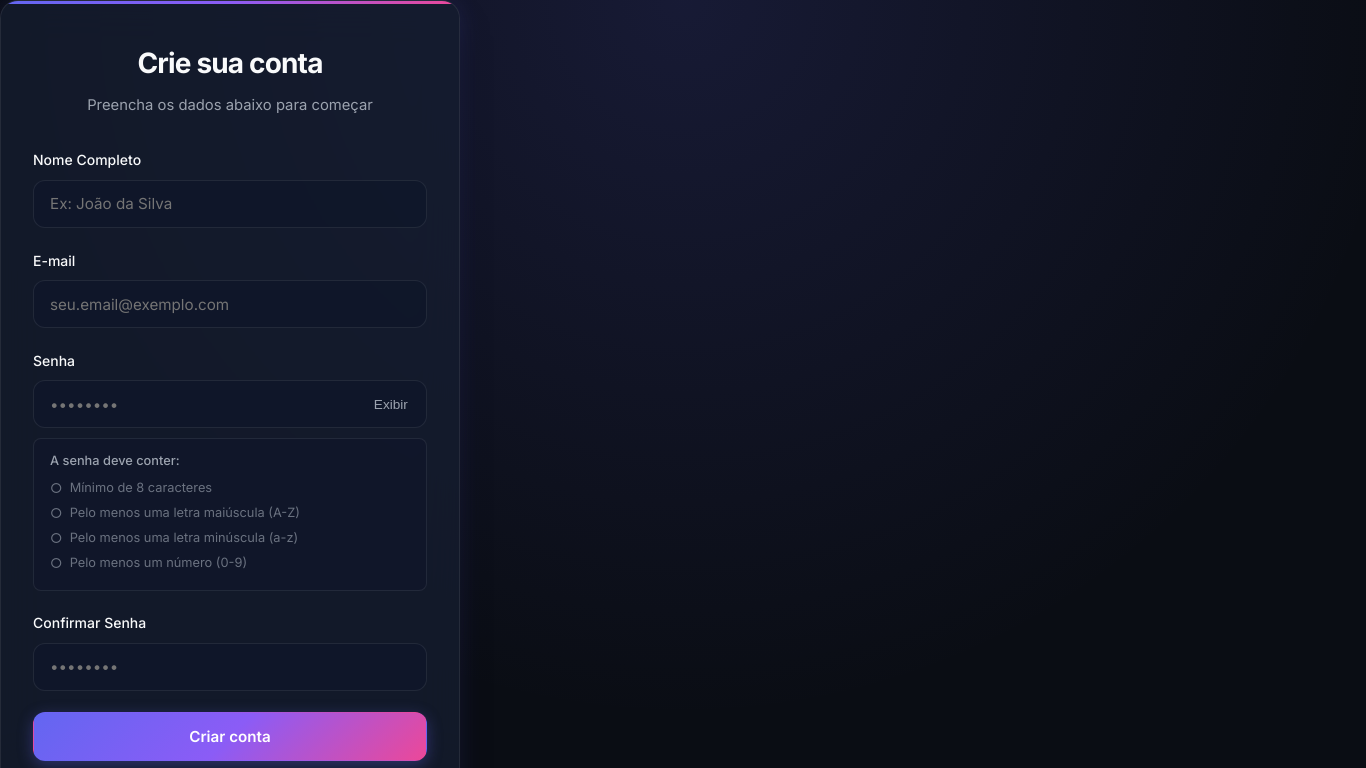
RegisterForm Unit Tests › exibe mensagem de erro na interface quando o cadastro é rejeitado
The image size is (1366, 768).
Type "Carlos Silva" into the field with test id "input-name".
click(230, 204); type("Carlos Silva")  # box x1=33 y1=180 x2=427 y2=228
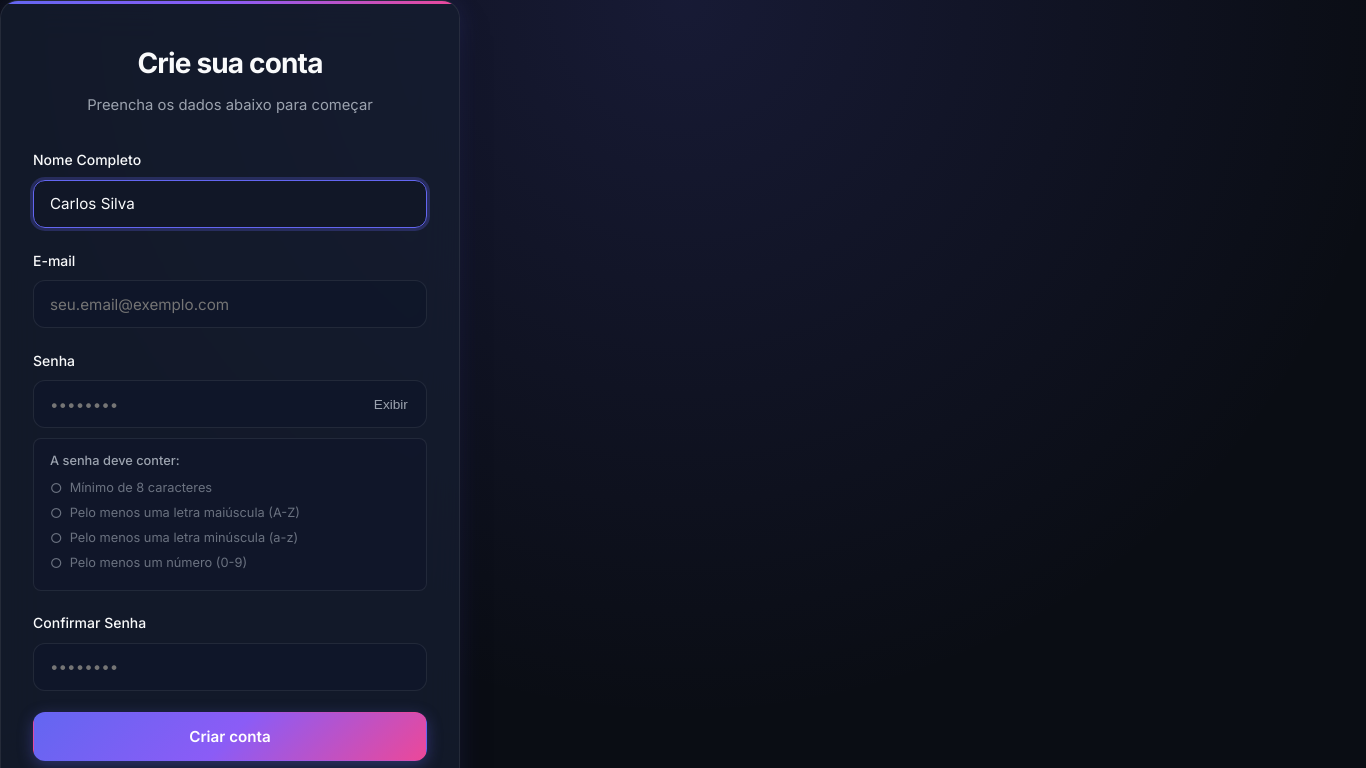
Type "existente@exemplo.com" into the field with test id "input-email".
click(230, 304); type("existente@exemplo.com")  # box x1=33 y1=280 x2=427 y2=328
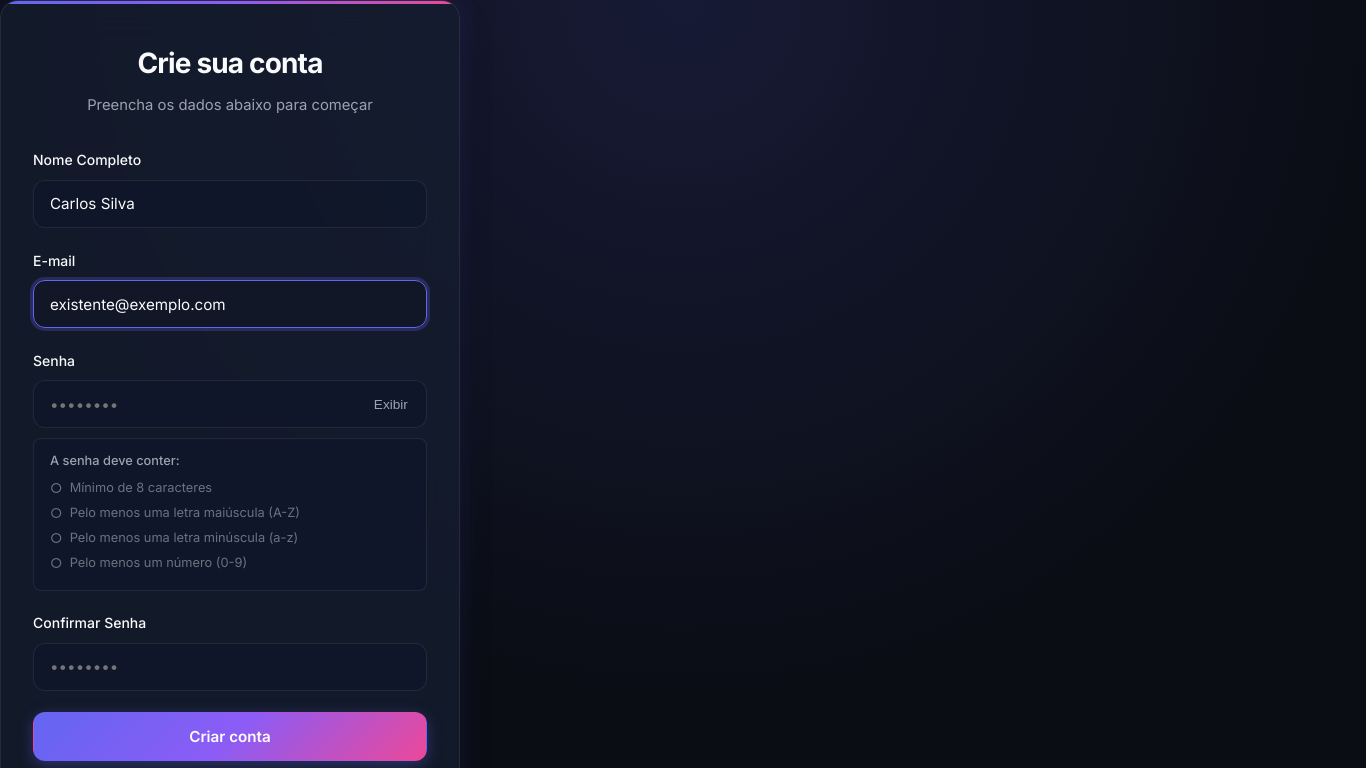
Type "SenhaForte1" into the password field with test id "input-password".
click(230, 404); type("SenhaForte1")  # box x1=33 y1=380 x2=427 y2=428
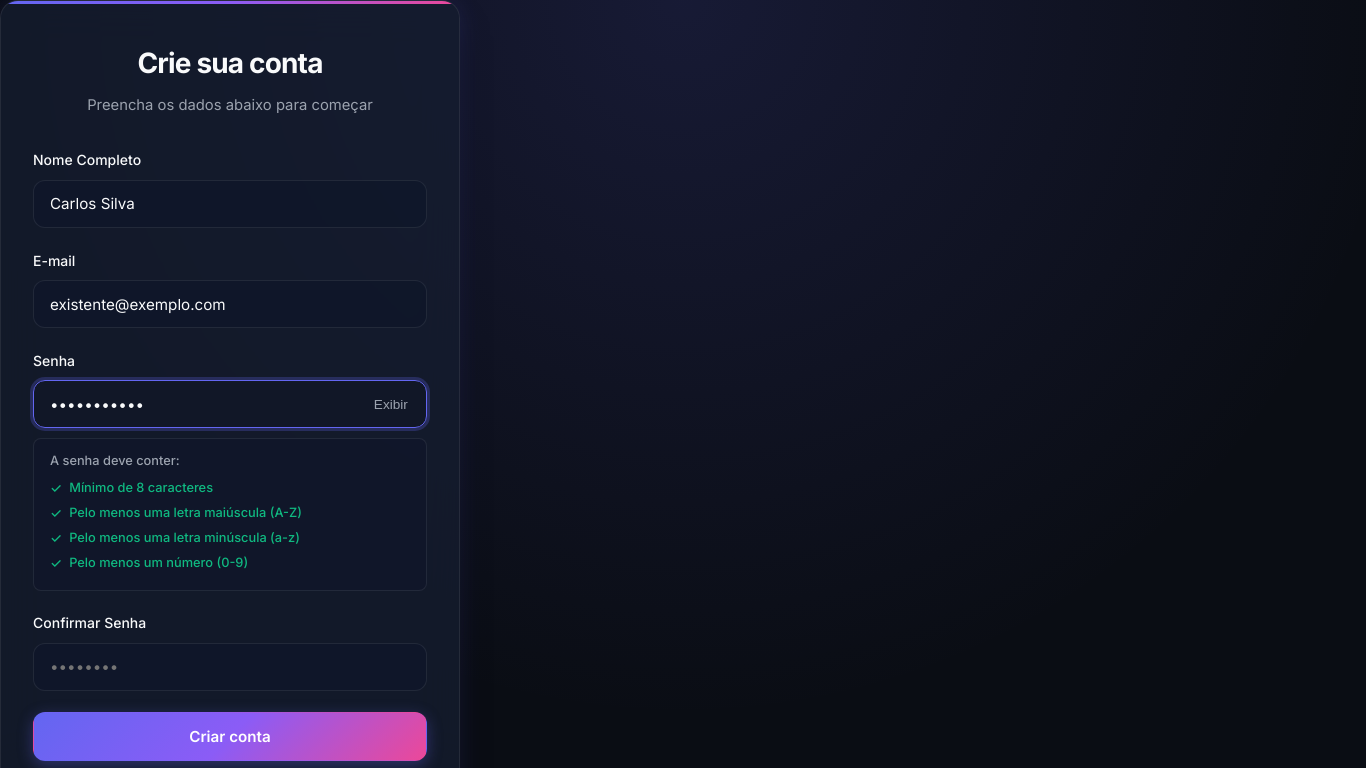
Type "SenhaForte1" into the password field with test id "input-confirm-password".
click(230, 667); type("SenhaForte1")  # box x1=33 y1=643 x2=427 y2=691
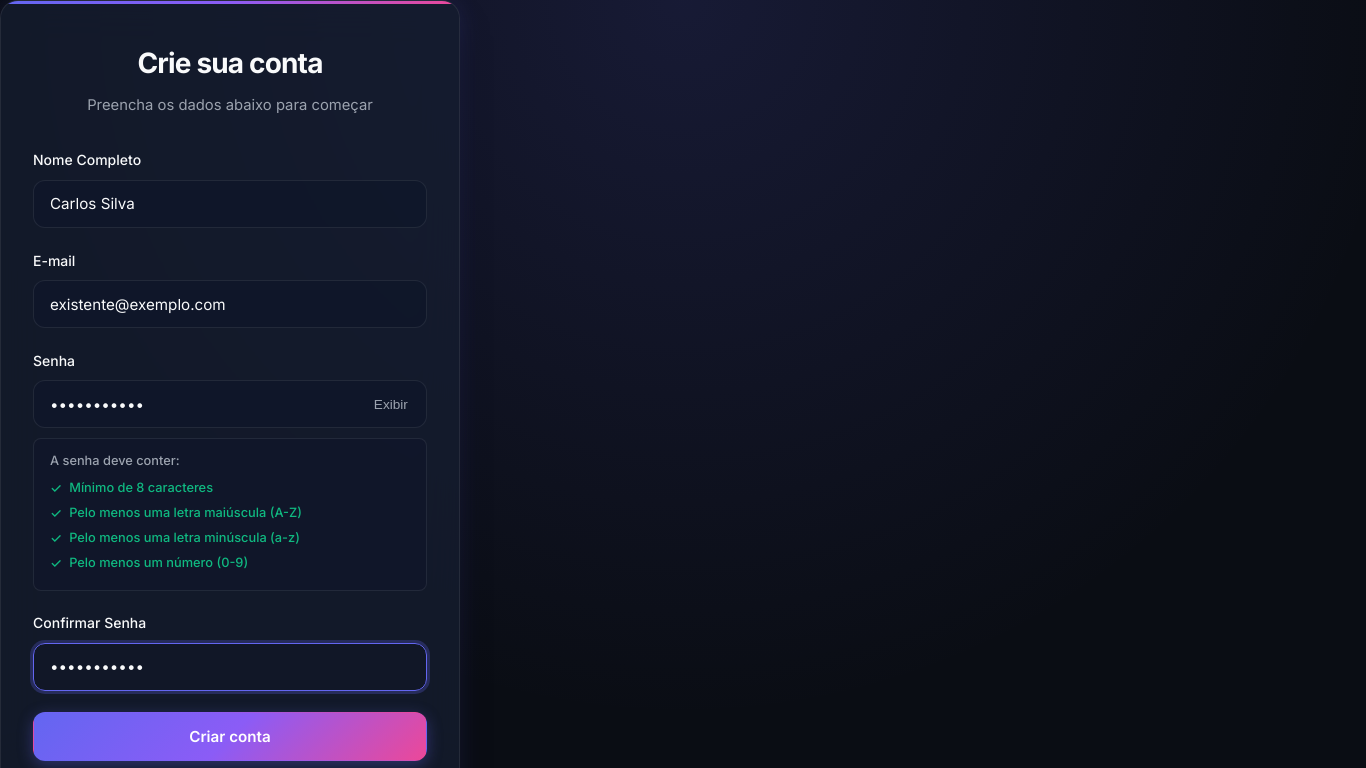
Click the button with test id "submit-register-button".
click(230, 736)  # box x1=33 y1=712 x2=427 y2=761
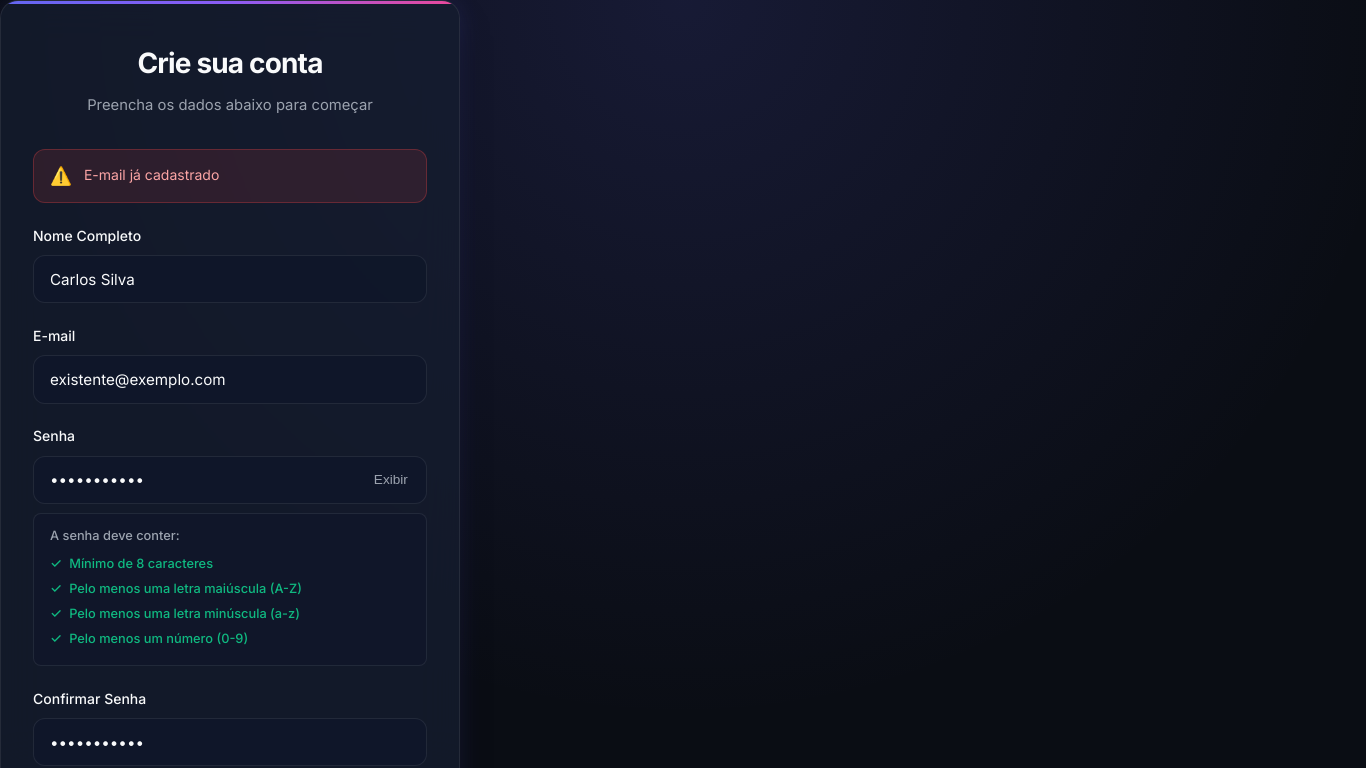
Check: the message with test id "register-error-alert" shows "E-mail já cadastrado", box x1=84 y1=166 x2=219 y2=183
